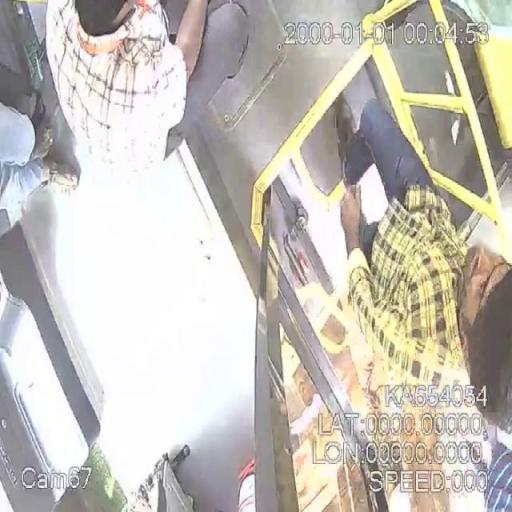persona: (330, 93, 509, 510), (43, 0, 208, 184)
